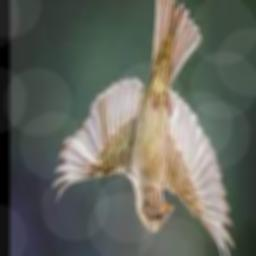Sparrow: (52, 0, 234, 256)
